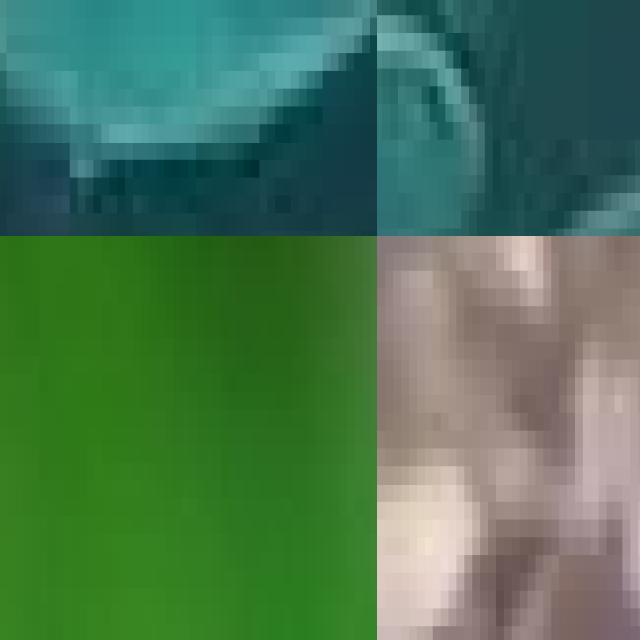fish: (377, 236, 640, 640), (0, 0, 377, 236)
